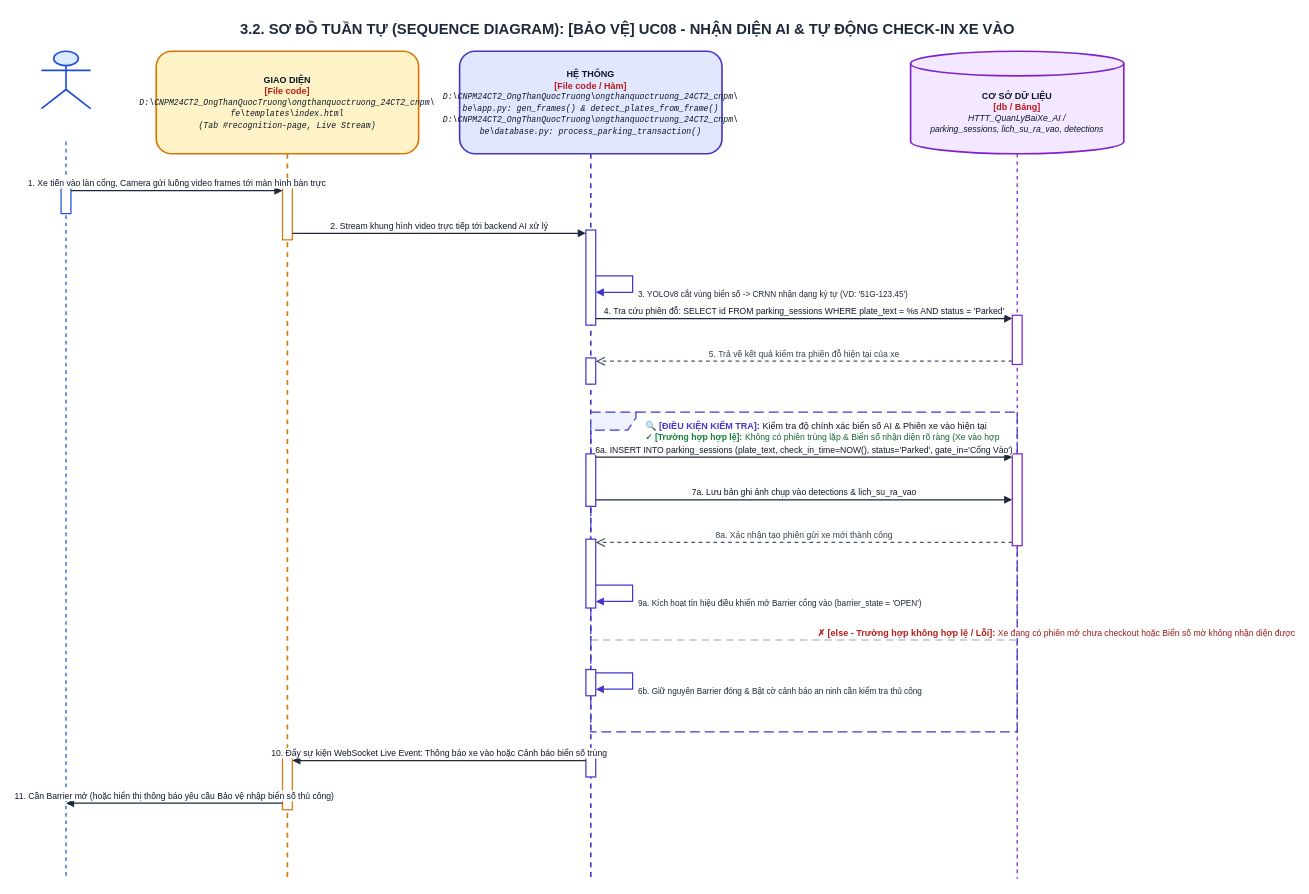
This 1309x894 diagram has some shape labels left out. Here are the shapes that lost their labels. From the top down, the box of each, then its label:
(40, 50, 91, 109): TÁC NHÂN Nhân Viên Bảo Vệ (Security Guard)
(590, 411, 1017, 732): alt
